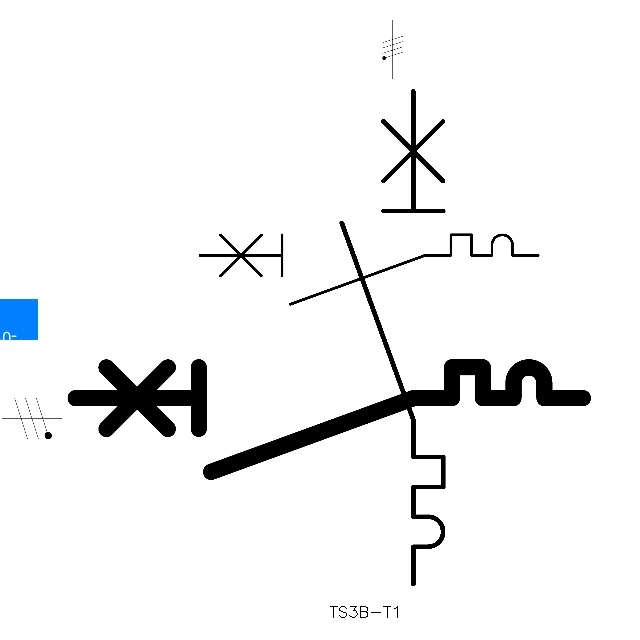interruptor_termomagnetico: (62, 354, 596, 484), (329, 78, 456, 596), (191, 226, 547, 313)
